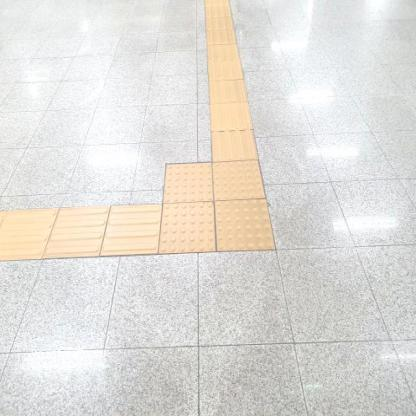podotacti: (129, 127, 296, 288), (0, 198, 158, 262), (202, 0, 258, 162)
